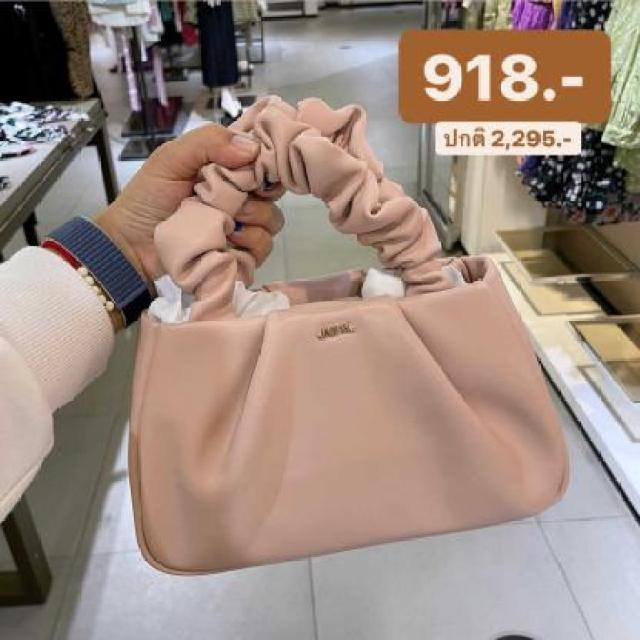Bag: (120, 91, 585, 578)
